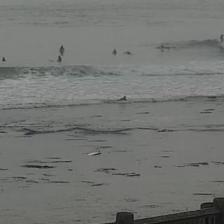surfer: (155, 44, 171, 49), (119, 96, 128, 101), (56, 55, 62, 62), (124, 50, 132, 55), (112, 48, 117, 55), (60, 44, 64, 50), (220, 34, 223, 41), (2, 57, 6, 62)
